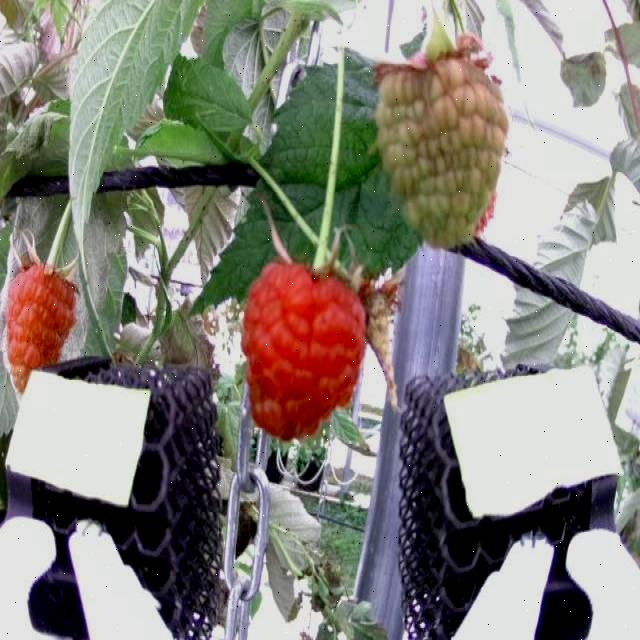Riped berries: (238, 256, 369, 441), (3, 254, 78, 387)
